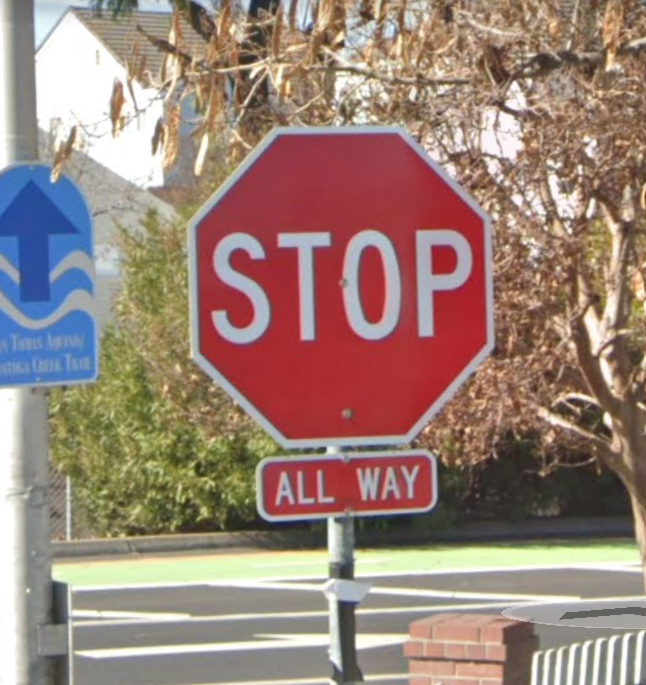stop_sign: (188, 131, 493, 443)
